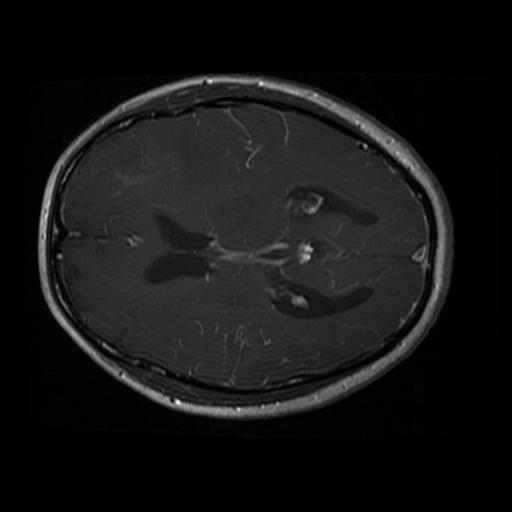glioma: (102, 137, 186, 210)
